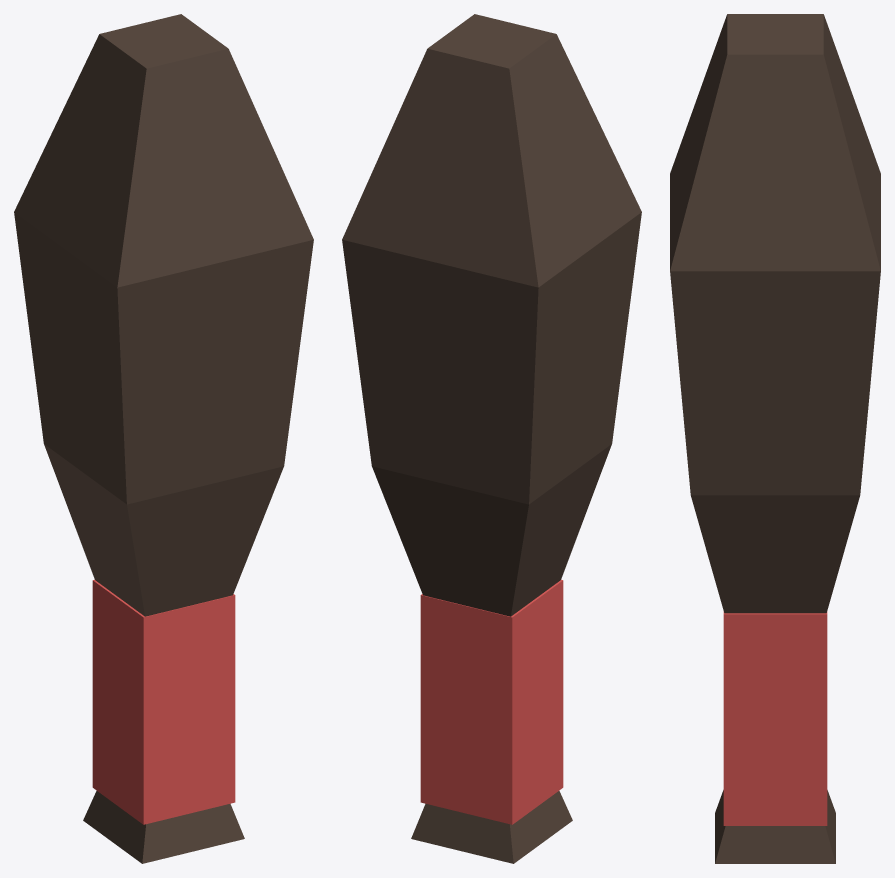
The model's file is WeaponClub.fbx.
3 renders of one model, left to right at view 1: azimuth 30°, elevation 25°; view 2: azimuth 150°, elevation 25°; view 3: azimuth 270°, elevation 25°, orthographic.
Parts seen in each view (by area): view 1: Club; view 2: Club; view 3: Club.
Boxes of the visible parts, <box> form: Club: <box>14,14,313,863</box>; Club: <box>342,14,641,863</box>; Club: <box>670,14,880,863</box>.
Size of the model in its own units: 12.26 by 47 by 11.17.
